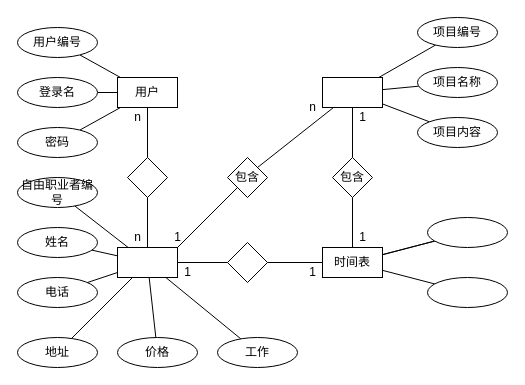
Image size: 525x385. Some labels were removed from this diagram. Here are the shapes that lost their labels. From the top down, the centre of each, then its label:
At [352,92]: "项目".
At [147,177]: "租借".
At [467,232]: "时间表时间".
At [147,262]: "自由职业者".
At [247,262]: "拥有".
At [467,292]: "时间表编号".
